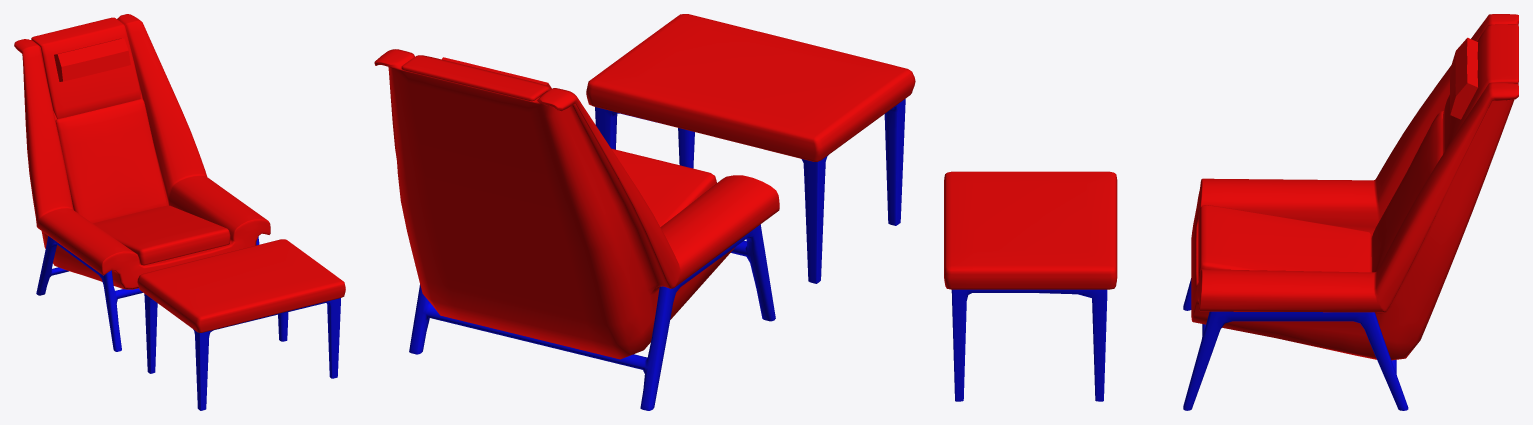
The model's file is OM_3BHK_R_Living_n_Dining_Chair.fbx.
The picture shows the model from 3 angles, left to right: view 1: azimuth 30°, elevation 25°; view 2: azimuth 150°, elevation 25°; view 3: azimuth 270°, elevation 25°; orthographic projection. The views are drawn at different scales.
Visible parts, largest first — view 1: OM_3BHK_R_Living_Chair, OM_3BHK_R_Living_Chair_Main_Sofa, OM_3BHK_R_Living_Chair_Footrest, OM_3BHK_R_Living_Chair_Footrest_Legs, OM_3BHK_R_Living_Chair_Legs; view 2: OM_3BHK_R_Living_Chair_Main_Sofa, OM_3BHK_R_Living_Chair_Footrest, OM_3BHK_R_Living_Chair, OM_3BHK_R_Living_Chair_Legs, OM_3BHK_R_Living_Chair_Footrest_Legs; view 3: OM_3BHK_R_Living_Chair_Main_Sofa, OM_3BHK_R_Living_Chair_Footrest, OM_3BHK_R_Living_Chair, OM_3BHK_R_Living_Chair_Legs, OM_3BHK_R_Living_Chair_Footrest_Legs.
Boxes of the visible parts, box(x1,y1,x2,y2) form: OM_3BHK_R_Living_Chair: box(31, 17, 230, 265); OM_3BHK_R_Living_Chair_Main_Sofa: box(14, 14, 270, 289); OM_3BHK_R_Living_Chair_Footrest: box(137, 239, 345, 332); OM_3BHK_R_Living_Chair_Footrest_Legs: box(144, 293, 340, 410); OM_3BHK_R_Living_Chair_Legs: box(36, 236, 259, 351); OM_3BHK_R_Living_Chair_Main_Sofa: box(374, 49, 779, 359); OM_3BHK_R_Living_Chair_Footrest: box(586, 14, 915, 161); OM_3BHK_R_Living_Chair: box(401, 55, 716, 226); OM_3BHK_R_Living_Chair_Legs: box(409, 224, 775, 410); OM_3BHK_R_Living_Chair_Footrest_Legs: box(595, 99, 905, 283); OM_3BHK_R_Living_Chair_Main_Sofa: box(1191, 14, 1518, 360); OM_3BHK_R_Living_Chair_Footrest: box(944, 171, 1117, 289); OM_3BHK_R_Living_Chair: box(1198, 24, 1518, 281); OM_3BHK_R_Living_Chair_Legs: box(1183, 278, 1408, 410); OM_3BHK_R_Living_Chair_Footrest_Legs: box(951, 289, 1107, 401).
Size of the model in its own units: 4.69 by 5.79 by 9.83.
